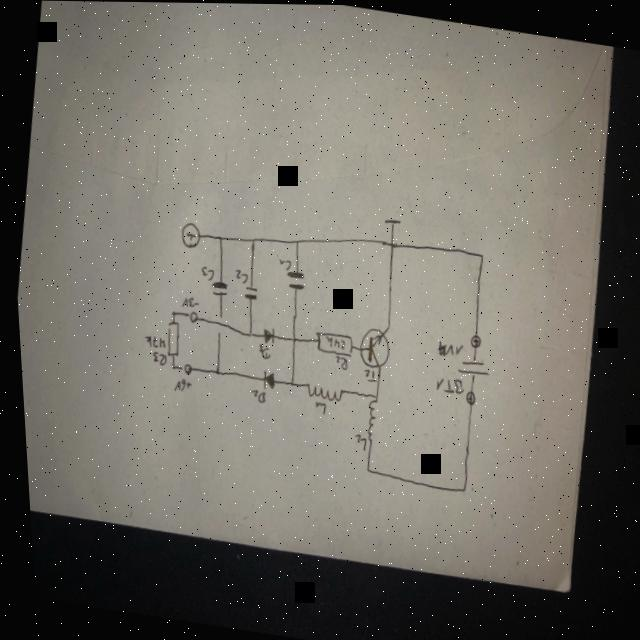capacitor: (282, 270, 303, 291), (207, 279, 226, 297), (239, 286, 256, 302)
crossover: (209, 313, 224, 339)
diode: (257, 371, 273, 392), (257, 327, 273, 347)
ground: (176, 220, 202, 252), (380, 217, 401, 232)
inductor: (358, 398, 376, 443), (300, 383, 340, 402)
junction: (212, 233, 222, 244), (208, 366, 218, 377), (243, 329, 252, 340), (165, 362, 174, 373), (165, 308, 174, 319), (284, 378, 292, 389), (286, 334, 294, 345), (474, 250, 482, 261), (247, 235, 255, 246), (381, 322, 389, 333), (385, 240, 393, 250), (290, 237, 298, 247), (359, 466, 366, 477), (455, 484, 462, 494), (368, 392, 375, 402)
resistor: (308, 329, 352, 358), (159, 320, 180, 358)
source: (452, 357, 488, 377)
text: (429, 373, 462, 398), (432, 339, 461, 360), (139, 334, 165, 351), (320, 334, 344, 351), (347, 433, 364, 454), (177, 295, 199, 310), (307, 399, 324, 418), (357, 365, 374, 384), (196, 264, 213, 283), (230, 269, 247, 287), (245, 389, 264, 405), (148, 351, 165, 368), (170, 378, 188, 394), (274, 257, 291, 273), (254, 343, 269, 361), (329, 356, 346, 370)
transistor: (352, 324, 390, 371)
